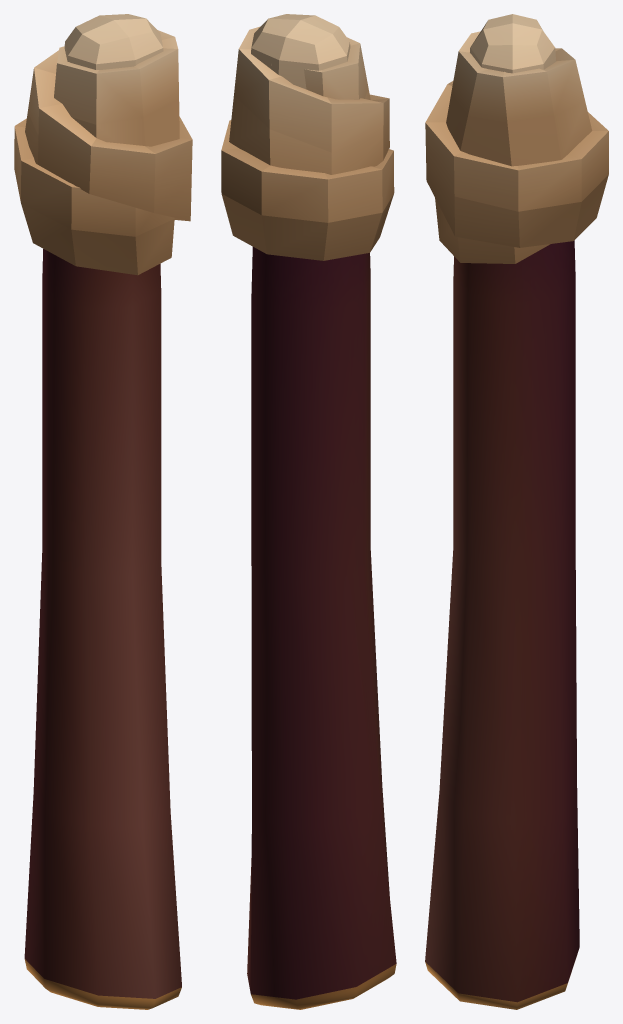
Rendered from SM_torch_001.fbx.
3 views of the same model, side by side, from view 1: azimuth 30°, elevation 25°; view 2: azimuth 150°, elevation 25°; view 3: azimuth 270°, elevation 25° (orthographic).
Visible parts, largest first — view 1: SM_torch_001; view 2: SM_torch_001; view 3: SM_torch_001.
Part boxes in pixels (<box>): SM_torch_001: <box>14,14,192,1009</box>; SM_torch_001: <box>221,14,396,1009</box>; SM_torch_001: <box>425,14,608,1009</box>.
Size of the model in its own units: 17.51 by 105 by 18.05.
